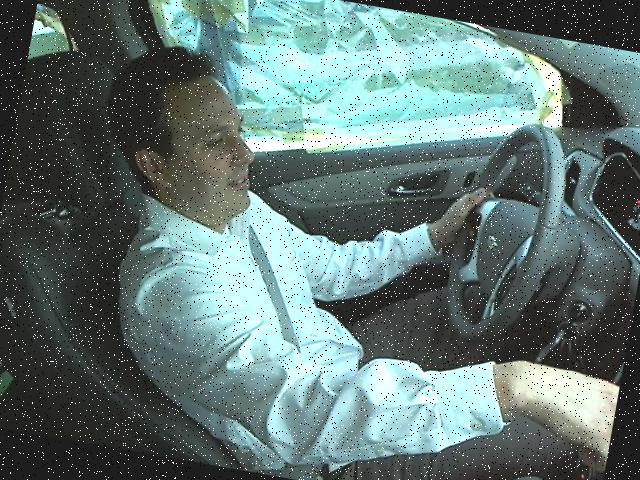c3 - Operating the Radio: (51, 29, 639, 479)
